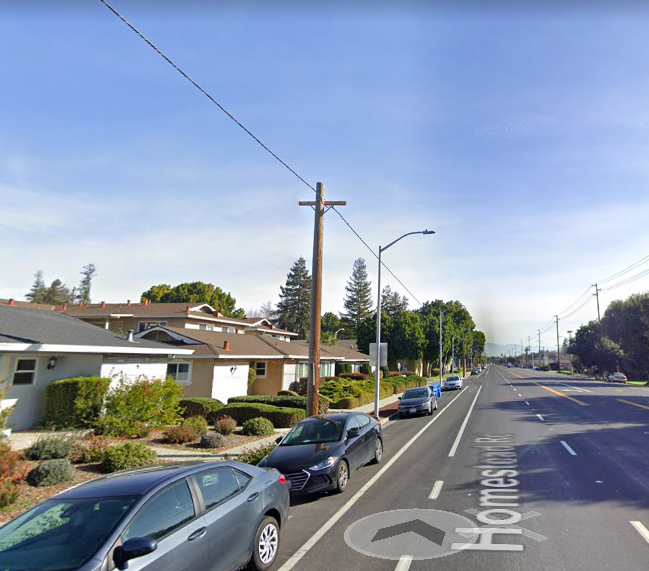utility_pole: (293, 175, 350, 224)
